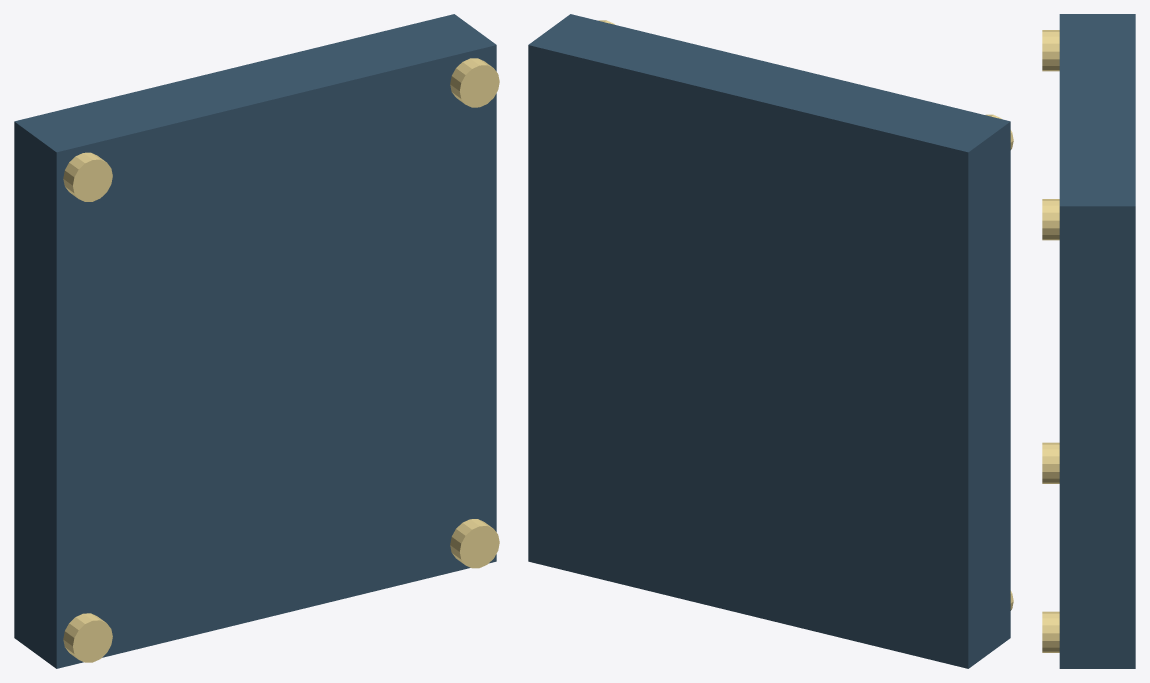
File: module_socket.glb
3 views of the same model, side by side, from view 1: azimuth 30°, elevation 25°; view 2: azimuth 150°, elevation 25°; view 3: azimuth 270°, elevation 25° (orthographic). The views are drawn at different scales.
Parts seen in each view (by area): view 1: Serviceable socket, Mount socket pin 0.29 -0.33, Mount socket pin -0.29 0.33, Mount socket pin 0.29 0.33, Mount socket pin -0.29 -0.33; view 2: Serviceable socket; view 3: Serviceable socket, Mount socket pin -0.29 -0.33, Mount socket pin -0.29 0.33, Mount socket pin 0.29 -0.33, Mount socket pin 0.29 0.33.
Boxes of the visible parts, x1,y1,x2,y2 form: Serviceable socket: (14, 14, 496, 668); Mount socket pin 0.29 -0.33: (450, 519, 499, 568); Mount socket pin -0.29 0.33: (63, 152, 112, 201); Mount socket pin 0.29 0.33: (450, 58, 499, 107); Mount socket pin -0.29 -0.33: (63, 613, 112, 662); Serviceable socket: (528, 14, 1010, 668); Serviceable socket: (1059, 14, 1135, 668); Mount socket pin -0.29 -0.33: (1042, 442, 1059, 483); Mount socket pin -0.29 0.33: (1042, 30, 1059, 71); Mount socket pin 0.29 -0.33: (1042, 611, 1059, 652); Mount socket pin 0.29 0.33: (1042, 199, 1059, 240).
Bounding box in the file's own units: 0.66 × 0.74 × 0.135.
